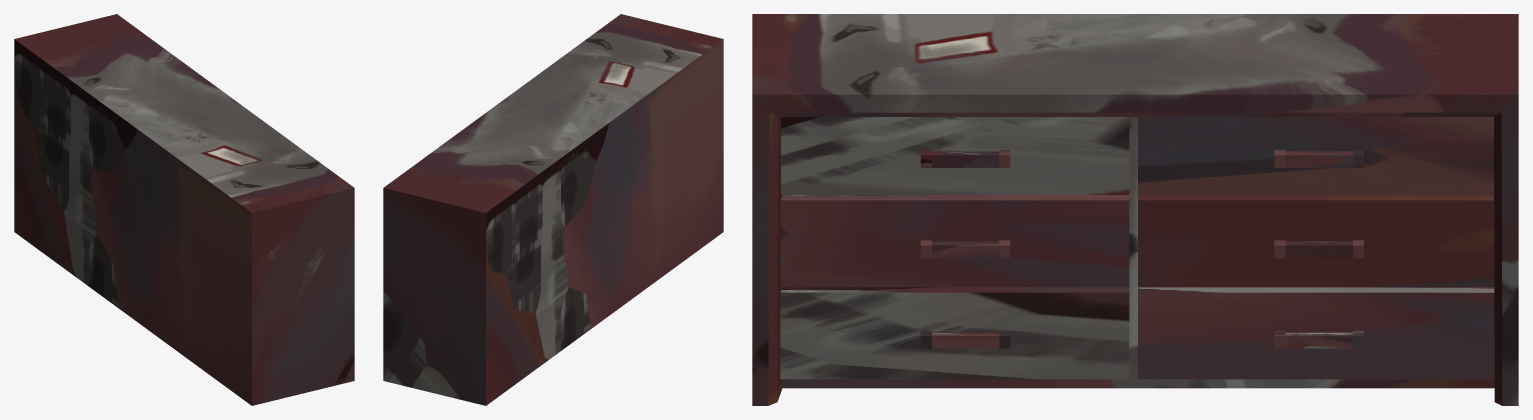
The model's file is chest of drawers.fbx.
3 renders of one model, left to right at view 1: azimuth 30°, elevation 25°; view 2: azimuth 150°, elevation 25°; view 3: azimuth 270°, elevation 25°, orthographic. The views are drawn at different scales.
Visible parts, largest first — view 1: chest of drawers; view 2: chest of drawers; view 3: chest of drawers.
Boxes of the visible parts, <box> form: chest of drawers: <box>14,14,354,405</box>; chest of drawers: <box>383,14,723,405</box>; chest of drawers: <box>752,14,1518,405</box>.
Size of the model in its own units: 236 by 424 by 947.
